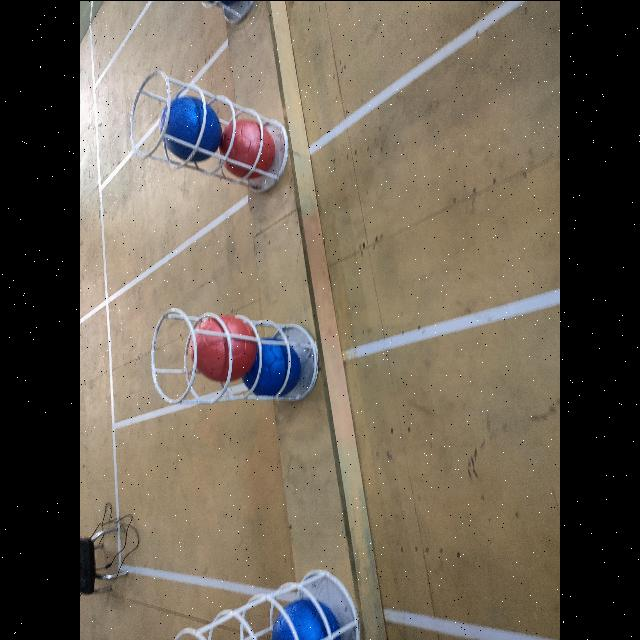B: (160, 96, 222, 162), (240, 337, 300, 398), (271, 596, 343, 640), (200, 0, 246, 6)
R: (191, 314, 257, 382), (218, 118, 276, 178)
